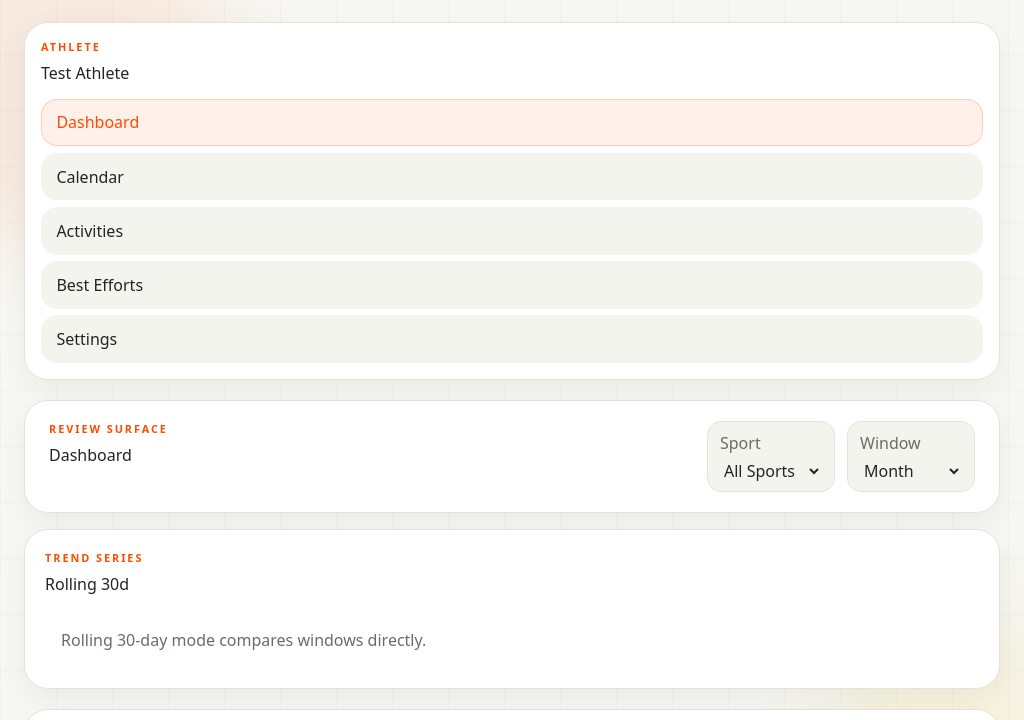
it: App › lets the user jump directly to a month from the calendar toolbar
Click the button "Calendar". click: click(90, 177)
box: [41,153,983,200]
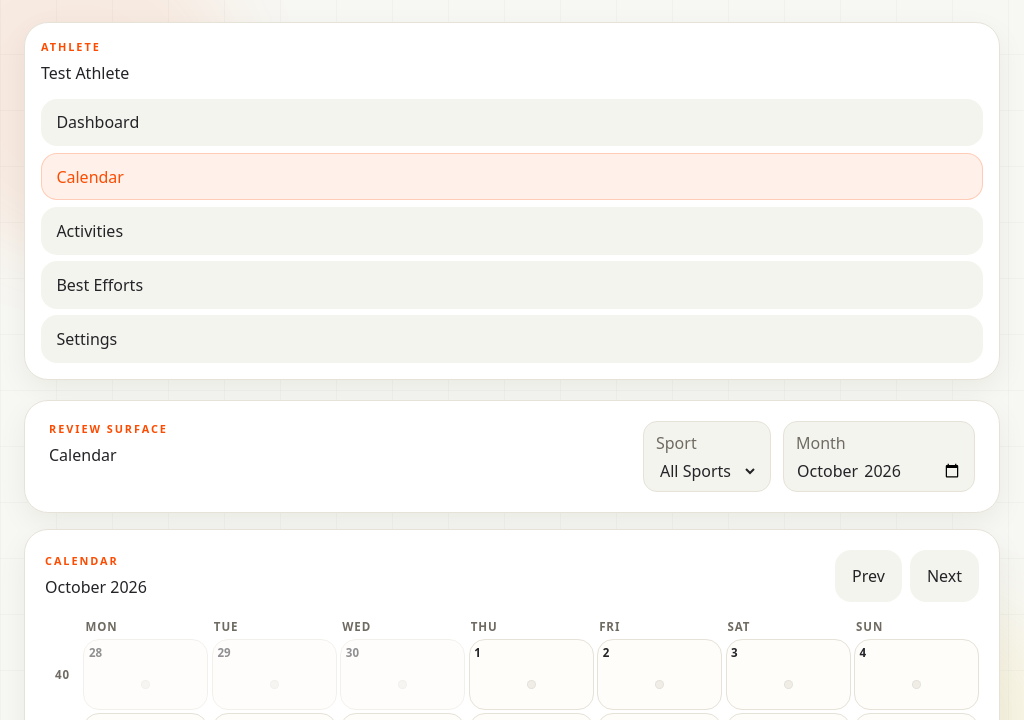
Replace the text in the field labelled "Month" with "2026-03". click: (879, 471)
box: [796,459,962,483]
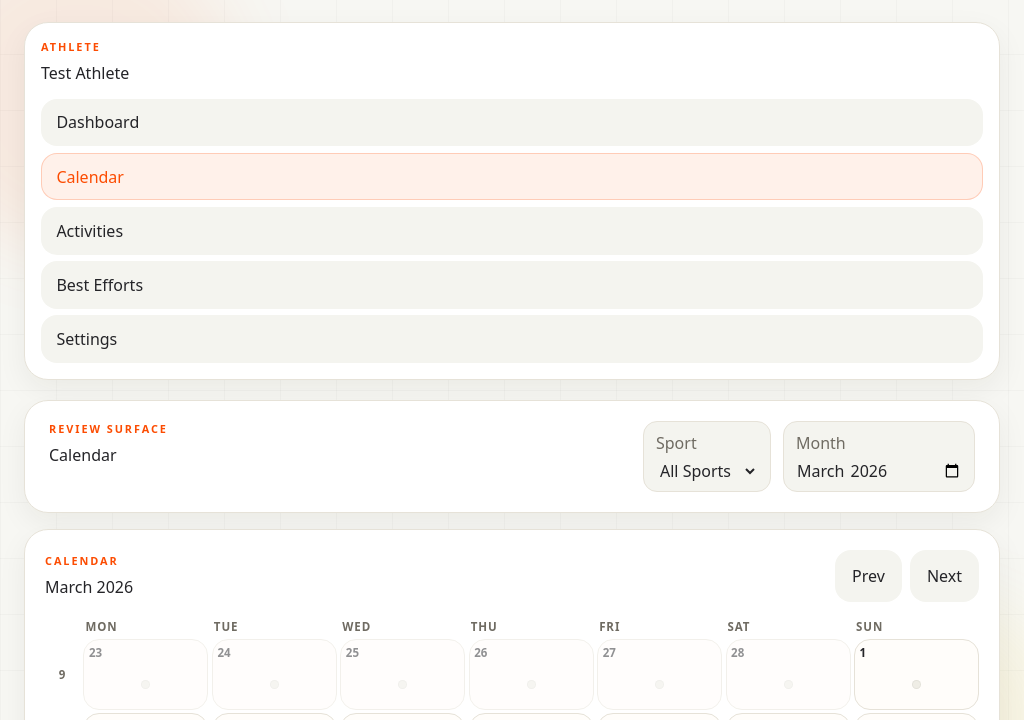
Result: the heading "March 2026" is shown at [45,575,133,599]
Replace the text in the field labelled "Month" with "2026-02". click: (879, 471)
box: [796,459,962,483]
(page scrolled)
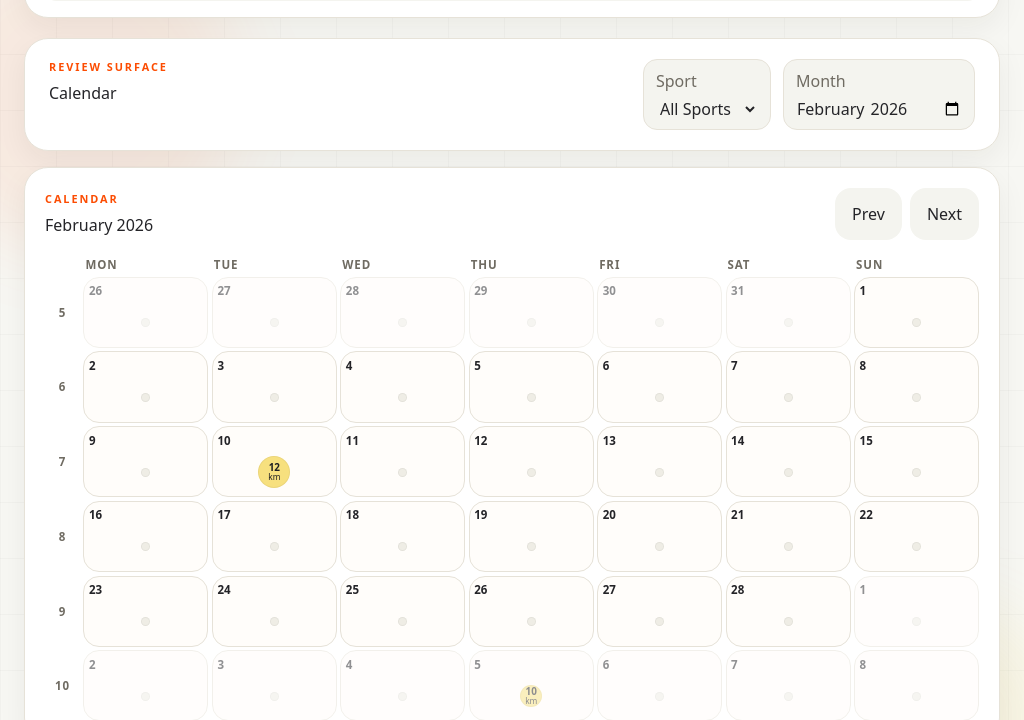
Result: the heading "February 2026" is shown at [45,213,153,237]
Result: the button "12 km" is shown at [258,456,290,488]
